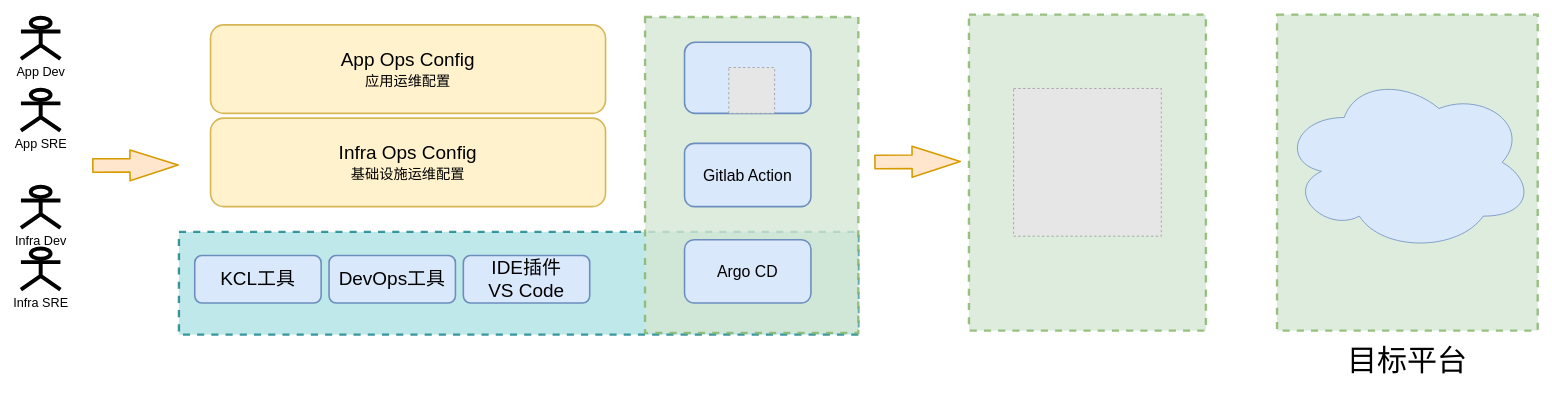
Image size: 1552x397. Some labels were removed from this diagram. Grey dashed boxes stand in for pictures. The box of each missing label's shape, as (x1, y1, x2, y2) in pixels:
Github Action: (683, 41, 811, 114)
Kusion 核心能力: (967, 13, 1207, 331)
Kusion 用户界面: (177, 230, 859, 335)
多云平台: (1280, 72, 1534, 252)
